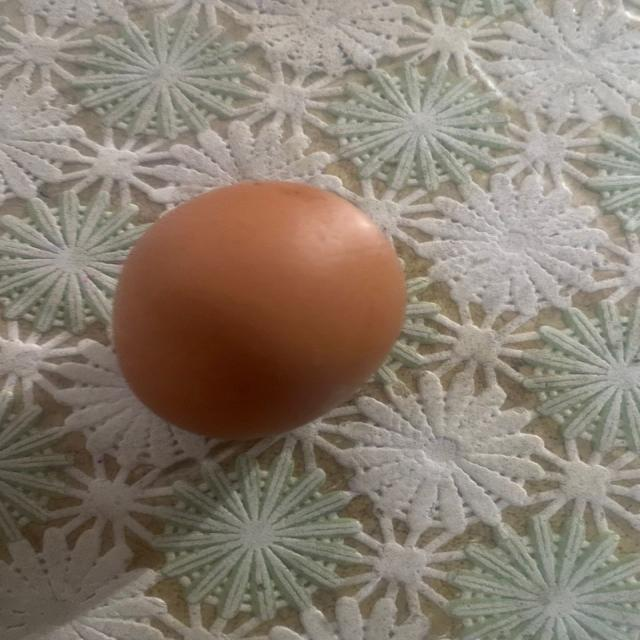Egg: (108, 178, 411, 440)
